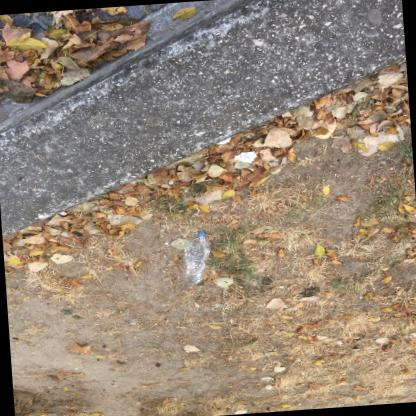Paper: (406, 178, 411, 182), (340, 393, 343, 396), (37, 291, 44, 292)
Plastic: (181, 229, 210, 284)
